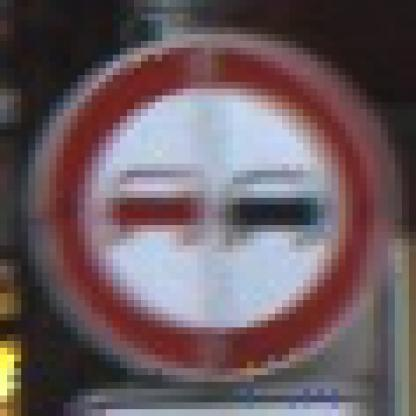No Overtaking: (36, 35, 382, 383)
